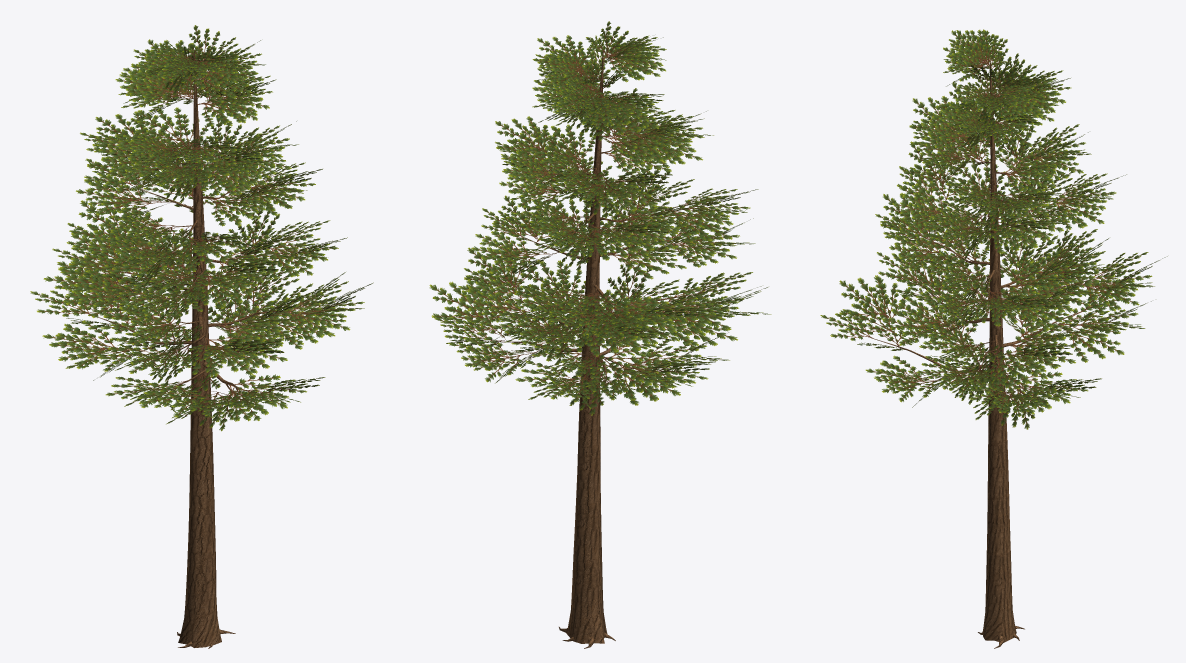
Rendered from corealm_pine_4.glb.
The picture shows the model from 3 angles, left to right: view 1: azimuth 30°, elevation 25°; view 2: azimuth 150°, elevation 25°; view 3: azimuth 270°, elevation 25°; orthographic projection. The views are drawn at different scales.
Parts seen in each view (by area): view 1: corealm_pine_4; view 2: corealm_pine_4; view 3: corealm_pine_4.
Part boxes in pixels (x1,y1,x2,y2): corealm_pine_4: [30, 25, 373, 648]; corealm_pine_4: [429, 21, 771, 648]; corealm_pine_4: [820, 29, 1167, 648].
Bounding box in the file's own units: 6.1 × 11.81 × 6.52.
Materials: 2 (2 with a texture image).
